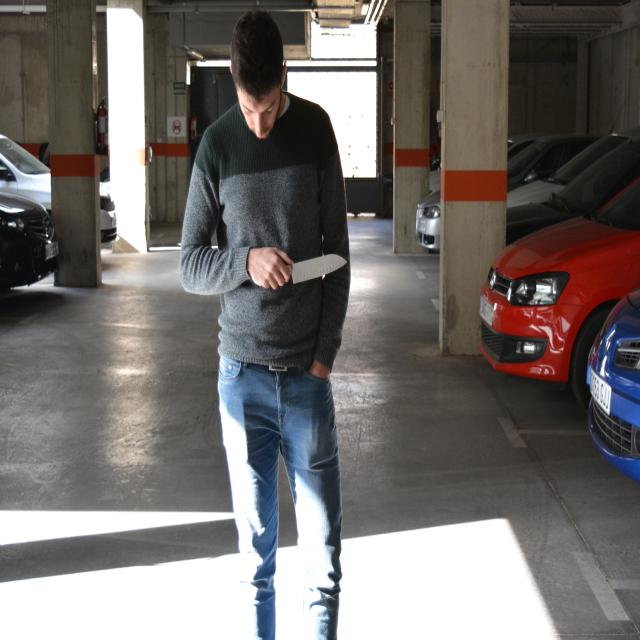knife: (289, 250, 352, 287)
